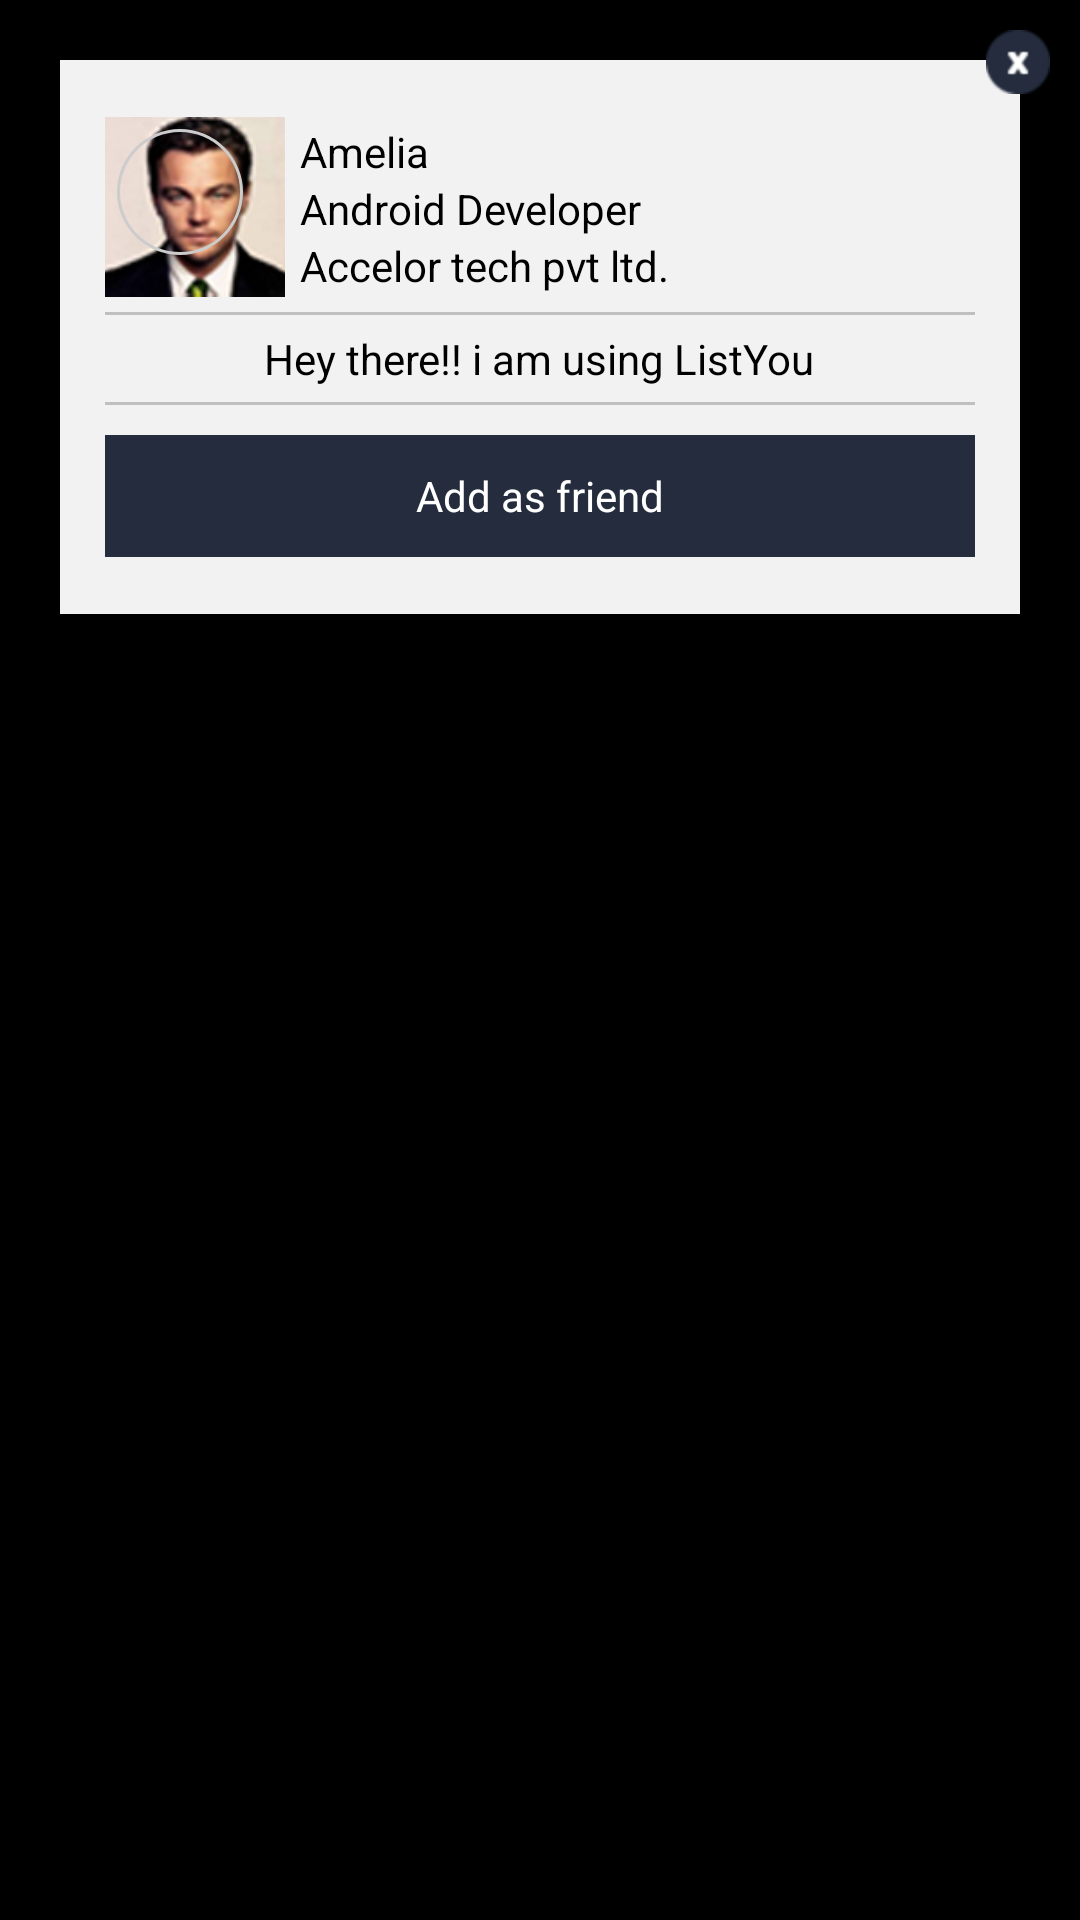

Where to tap for icons on this 1080×1920 app screen, as point (x, y):
cross: point (1018, 62)
user profile pic: point (195, 207)
